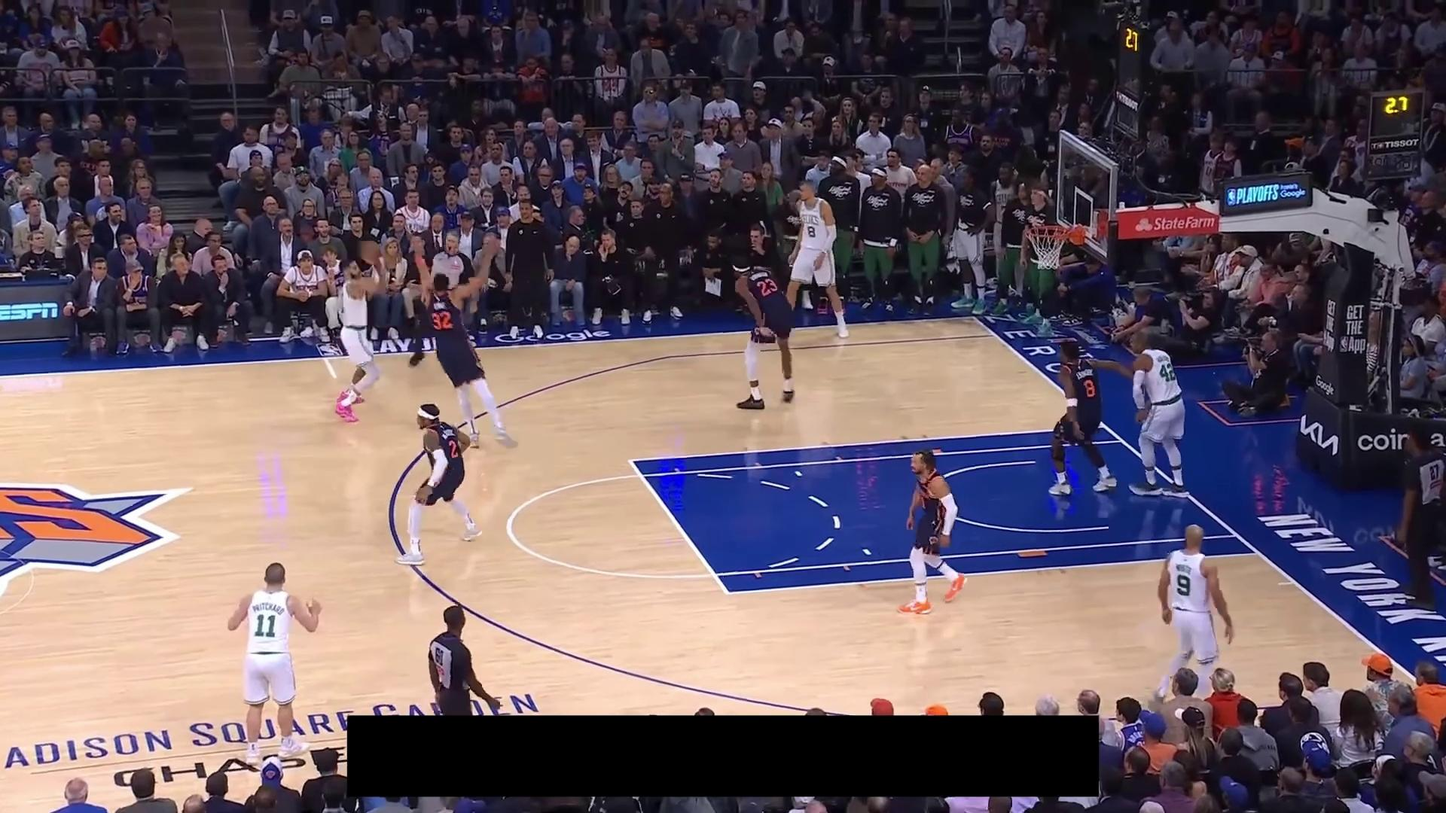ball: (360, 239, 383, 263)
number: (255, 613, 277, 638), (756, 278, 778, 297), (431, 311, 453, 330), (1176, 574, 1191, 596), (1159, 363, 1176, 382), (1082, 378, 1096, 399), (449, 440, 457, 459), (807, 224, 816, 239)
player: (226, 561, 324, 774), (1150, 522, 1236, 705), (392, 402, 484, 568), (1046, 337, 1133, 498), (895, 446, 968, 617), (780, 180, 850, 340), (1127, 326, 1191, 498), (731, 252, 798, 411)
player-in-possession: (329, 237, 393, 425)
player-shot-block: (405, 230, 520, 452)
referee: (407, 230, 490, 370), (1395, 428, 1444, 610), (427, 604, 505, 716)
rim: (1023, 224, 1069, 239)
